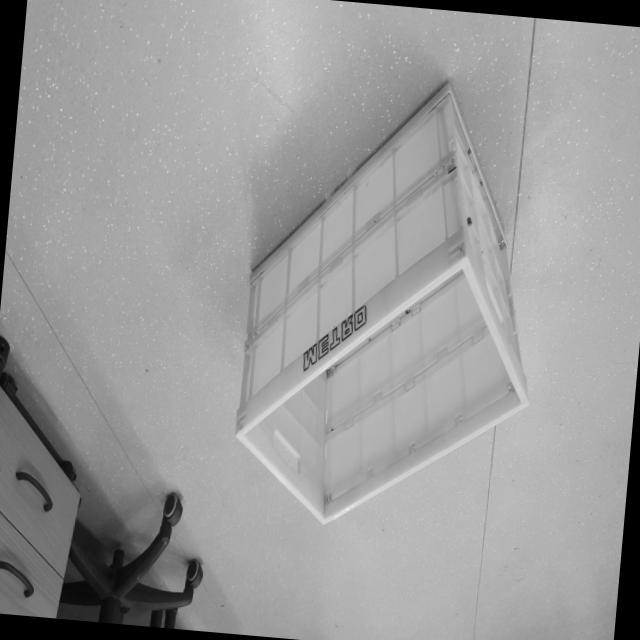box: (211, 37, 568, 550)
